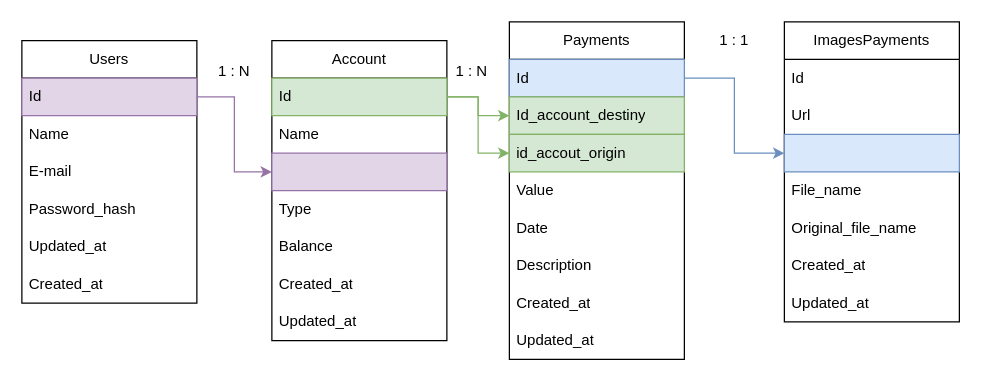
This 981x381 diagram has some shape labels left out. Here are the shapes that lost their labels. From the top down, the centre of each, then its label:
At (x=359, y=171): "User_id".
At (x=871, y=152): "Id_payment".
